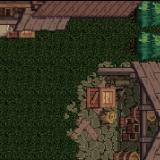Hide: (44, 79, 112, 142)
Obstacle: (63, 58, 160, 160), (0, 0, 160, 57)
